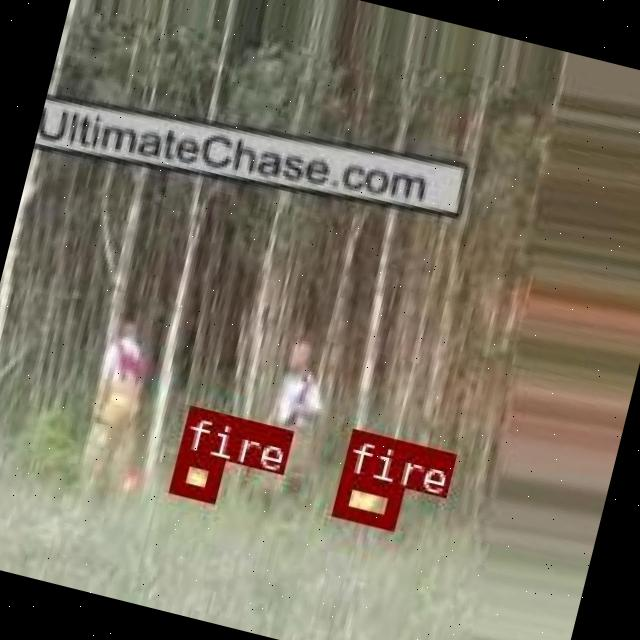fire: (330, 471, 401, 526), (167, 446, 223, 499)
